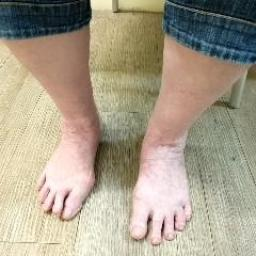Dorsal View -Both Feet-: (16, 83, 226, 249)
